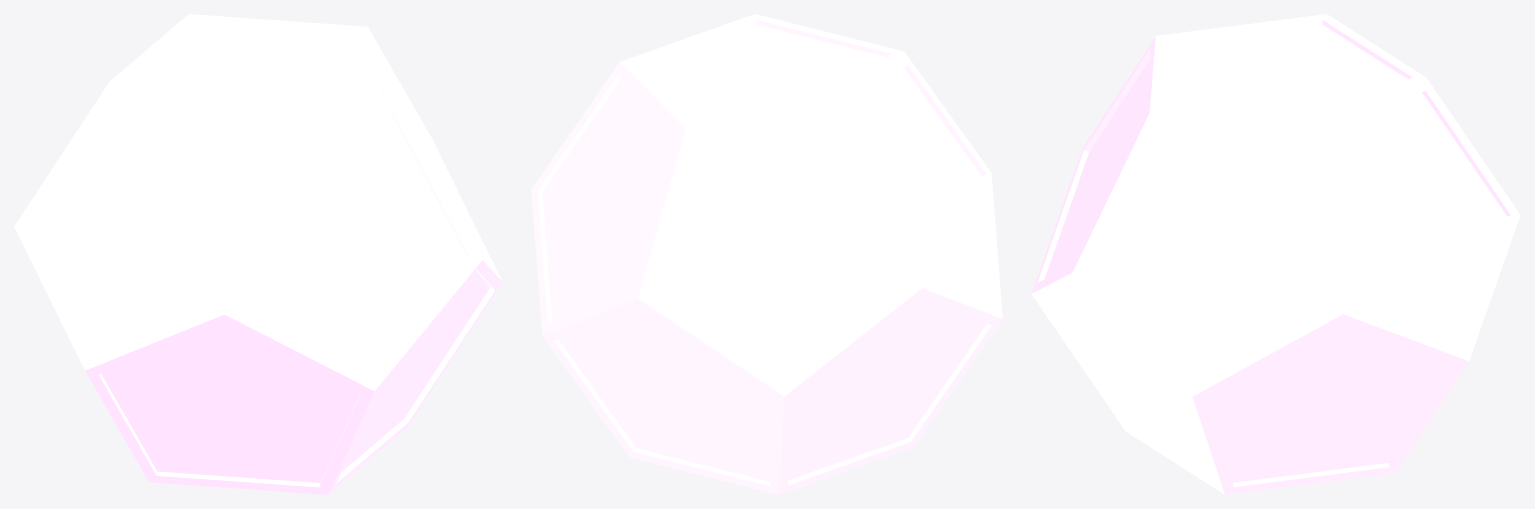
Rendered from SFI0210008.fbx.
The picture shows the model from 3 angles, left to right: view 1: azimuth 30°, elevation 25°; view 2: azimuth 150°, elevation 25°; view 3: azimuth 270°, elevation 25°; orthographic projection. The views are drawn at different scales.
Parts seen in each view (by area): view 1: smSFI0210008; view 2: smSFI0210008; view 3: smSFI0210008.
Part boxes in pixels (x1,y1,x2,y2): smSFI0210008: (14, 14, 502, 494); smSFI0210008: (531, 14, 1002, 494); smSFI0210008: (1031, 14, 1520, 494).
Bounding box in the file's own units: 134 × 114 × 139.
